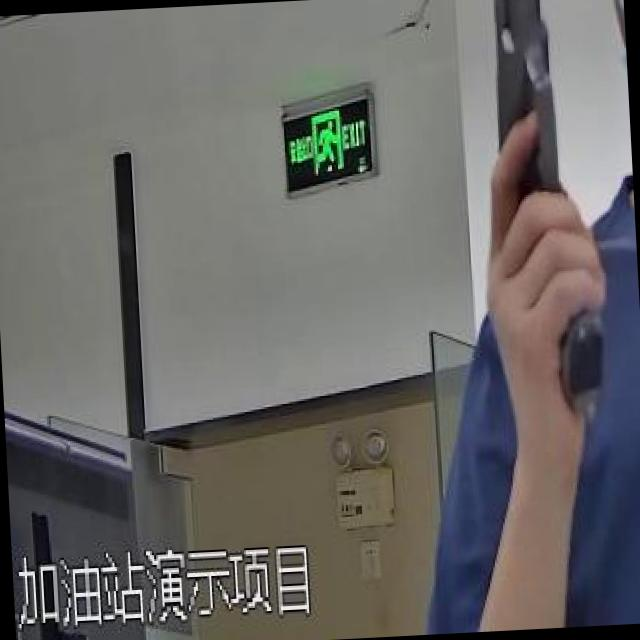Guns: (471, 0, 628, 433)
